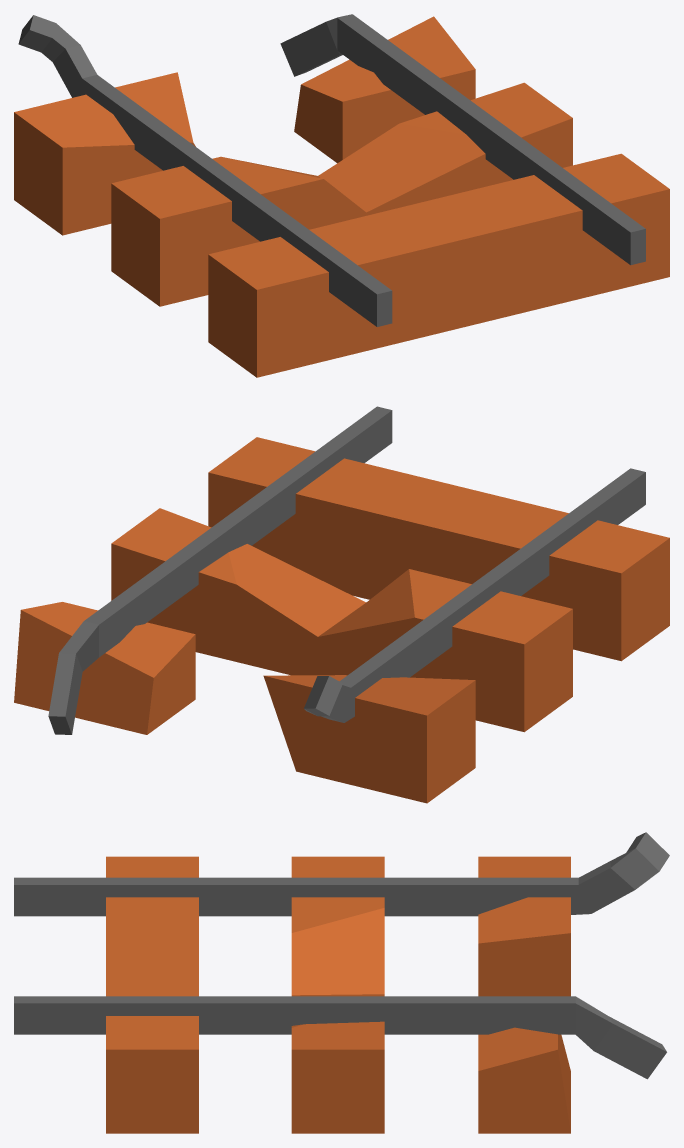
File: railBreak.fbx
3 renders of one model, top to bottom at view 1: azimuth 30°, elevation 25°; view 2: azimuth 150°, elevation 25°; view 3: azimuth 270°, elevation 25°, orthographic. The views are drawn at different scales.
Parts seen in each view (by area): view 1: Cube; view 2: Cube; view 3: Cube.
Boxes of the visible parts, x1,y1,x2,y2 form: Cube: [14, 14, 669, 377]; Cube: [14, 406, 669, 803]; Cube: [14, 832, 669, 1133].
Size of the model in its own units: 492 by 162 by 706.
